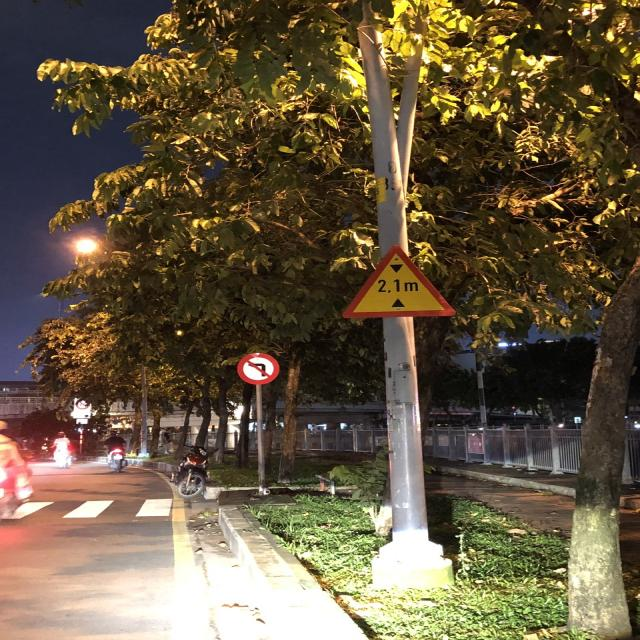Bien bao cam re trai: (233, 350, 284, 386)
Bien bao chieu cao tinh khong thuc te: (337, 240, 462, 327)
